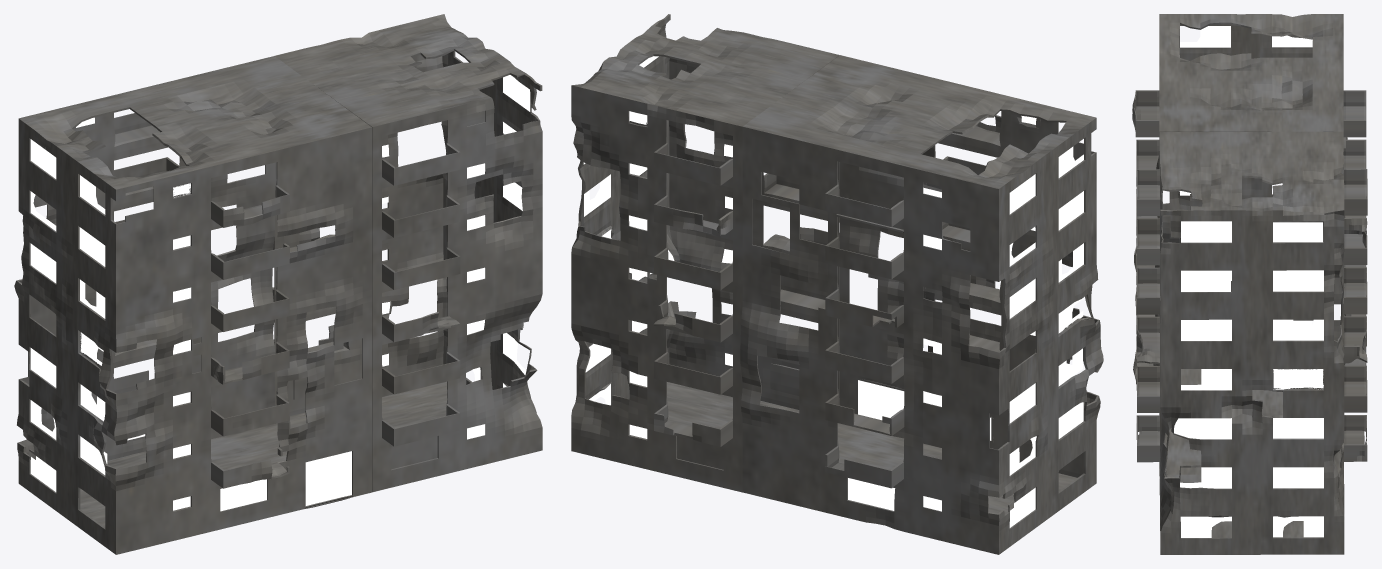
File: Predio1.fbx
The picture shows the model from 3 angles, left to right: view 1: azimuth 30°, elevation 25°; view 2: azimuth 150°, elevation 25°; view 3: azimuth 270°, elevation 25°; orthographic projection. The views are drawn at different scales.
Parts seen in each view (by area): view 1: Cube, Cube.002, Cube.001, Cube.004, Cube.003; view 2: Cube, Cube.002, Cube.001, Cube.004, Cube.005; view 3: Cube.002, Cube, Cube.004, Cube.001.
Boxes of the visible parts, bbox=[...] form: Cube: bbox=[14, 56, 371, 554]; Cube.002: bbox=[272, 14, 542, 492]; Cube.001: bbox=[30, 117, 351, 511]; Cube.004: bbox=[472, 75, 530, 387]; Cube.003: bbox=[467, 163, 485, 439]; Cube: bbox=[740, 55, 1103, 554]; Cube.002: bbox=[571, 14, 839, 492]; Cube.001: bbox=[848, 116, 1083, 527]; Cube.004: bbox=[583, 56, 674, 405]; Cube.005: bbox=[629, 111, 647, 438]; Cube.002: bbox=[1136, 131, 1367, 554]; Cube: bbox=[1132, 14, 1366, 475]; Cube.004: bbox=[1174, 221, 1323, 537]; Cube.001: bbox=[1180, 26, 1322, 329].
Bounding box in the file's own units: 7920 × 6399 × 3942.
2 materials, 1 textured.
